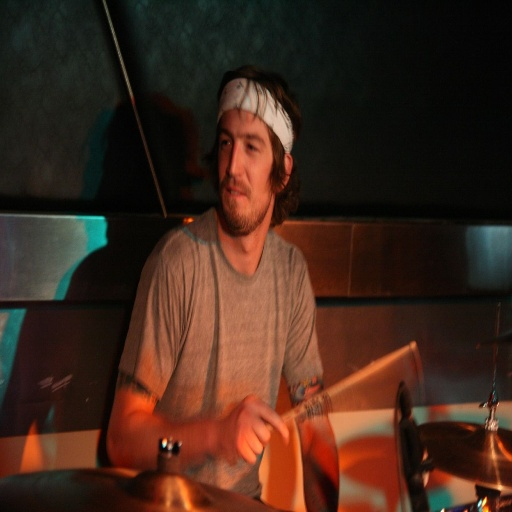hand: (216, 392, 288, 475)
